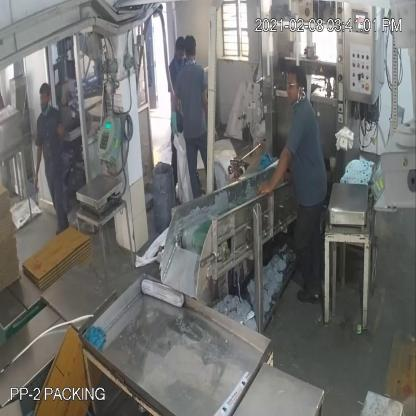no_glove: (258, 141, 294, 199)
